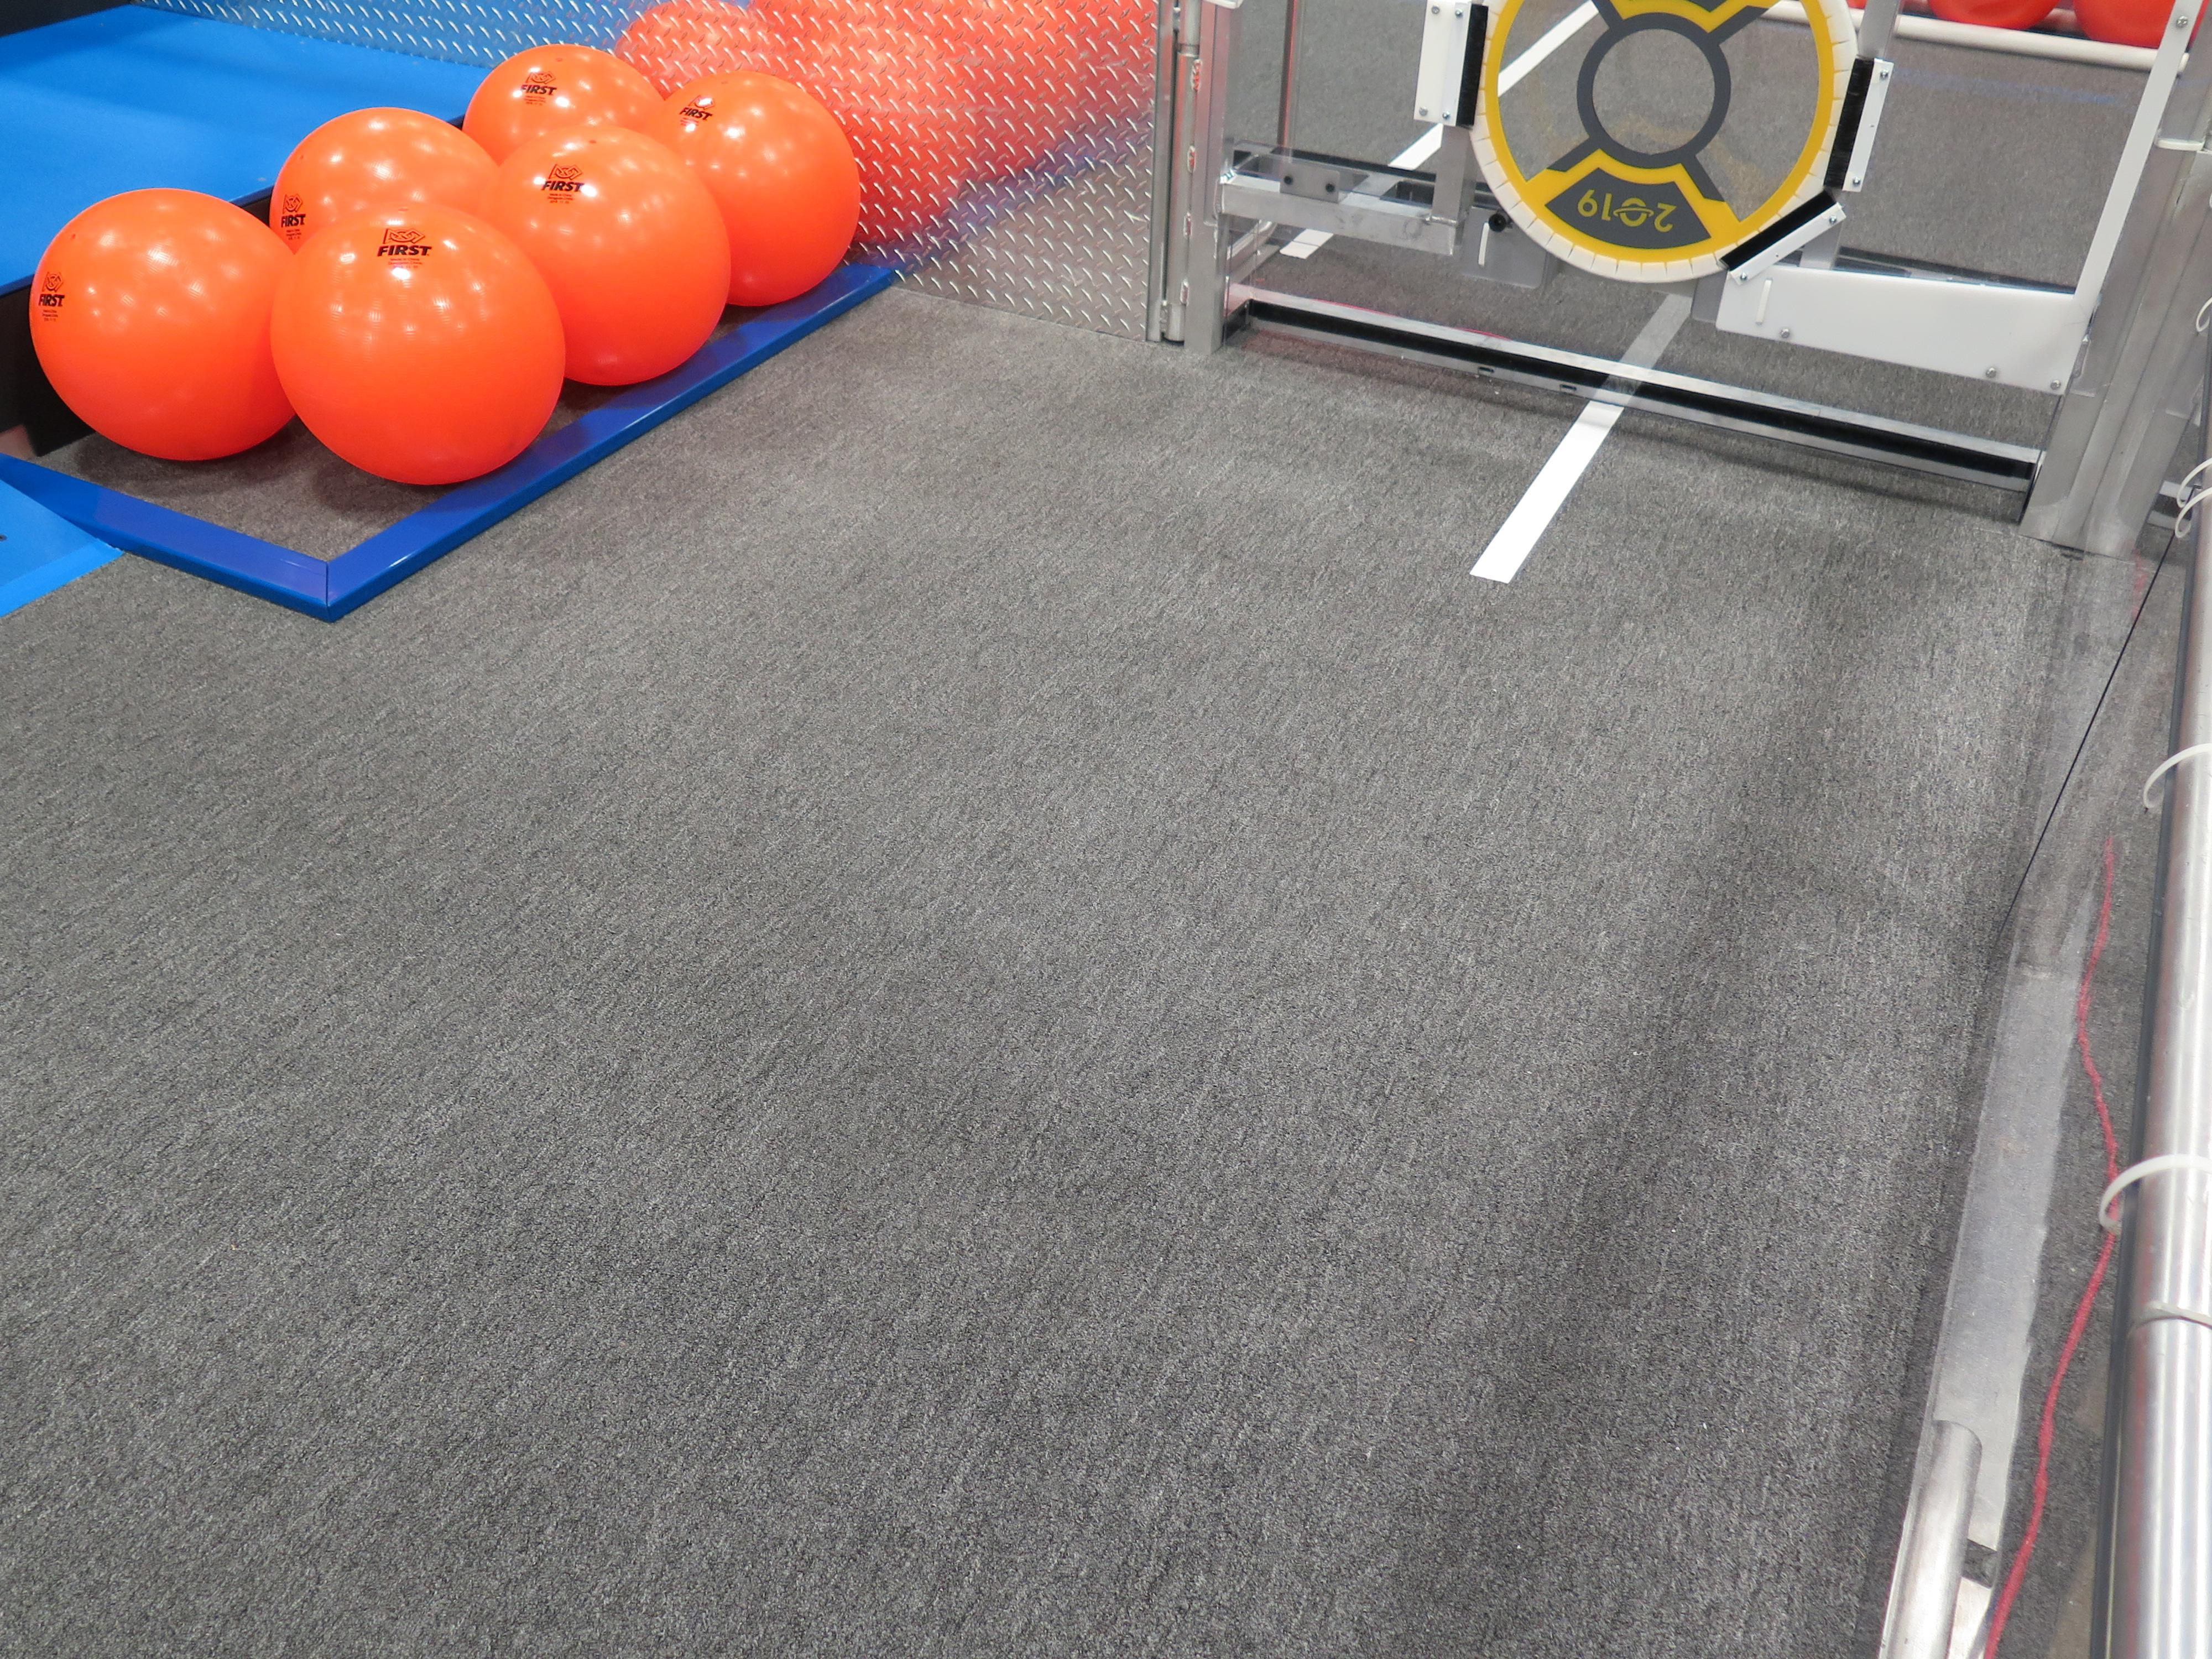Ball: (270, 207, 570, 486), (26, 186, 298, 471), (479, 127, 730, 387), (653, 68, 860, 303), (268, 106, 503, 246), (463, 45, 664, 178)
Hatch: (1456, 0, 1857, 286)
